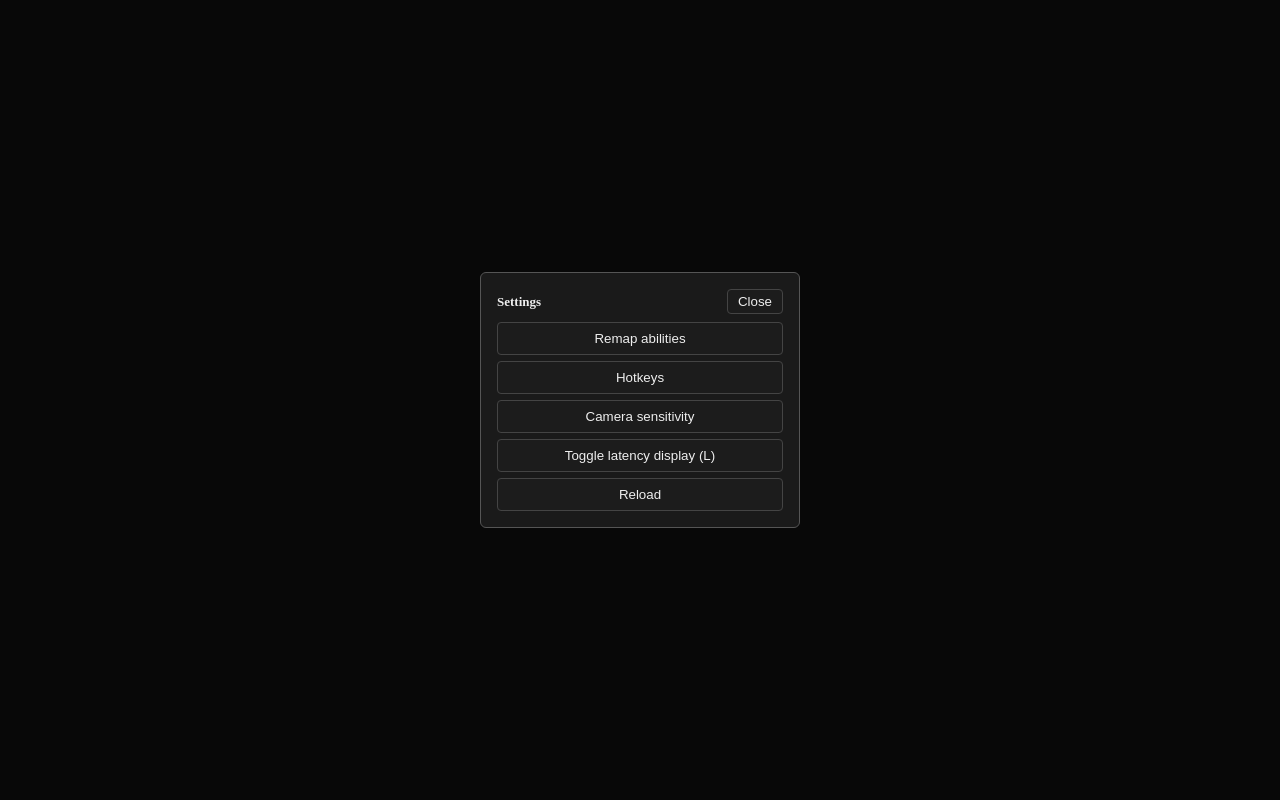
Test case: SettingsDialog hotkeys pane › captures the next keypress as the new binding
Step 1. Click the button "Hotkeys" → [640, 378], box [497, 361, 783, 394]
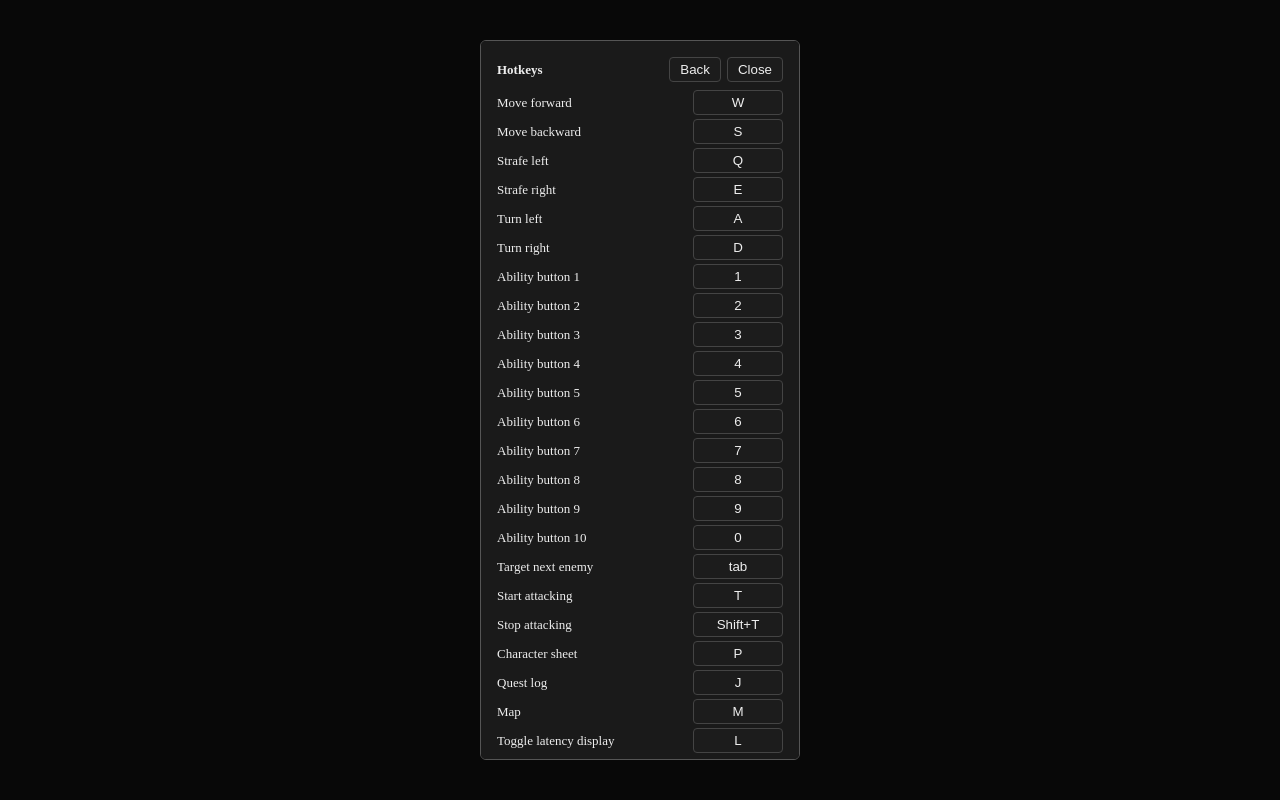
Step 2. Click the button named "Bind Move forward" → [738, 102], box [693, 90, 783, 115]
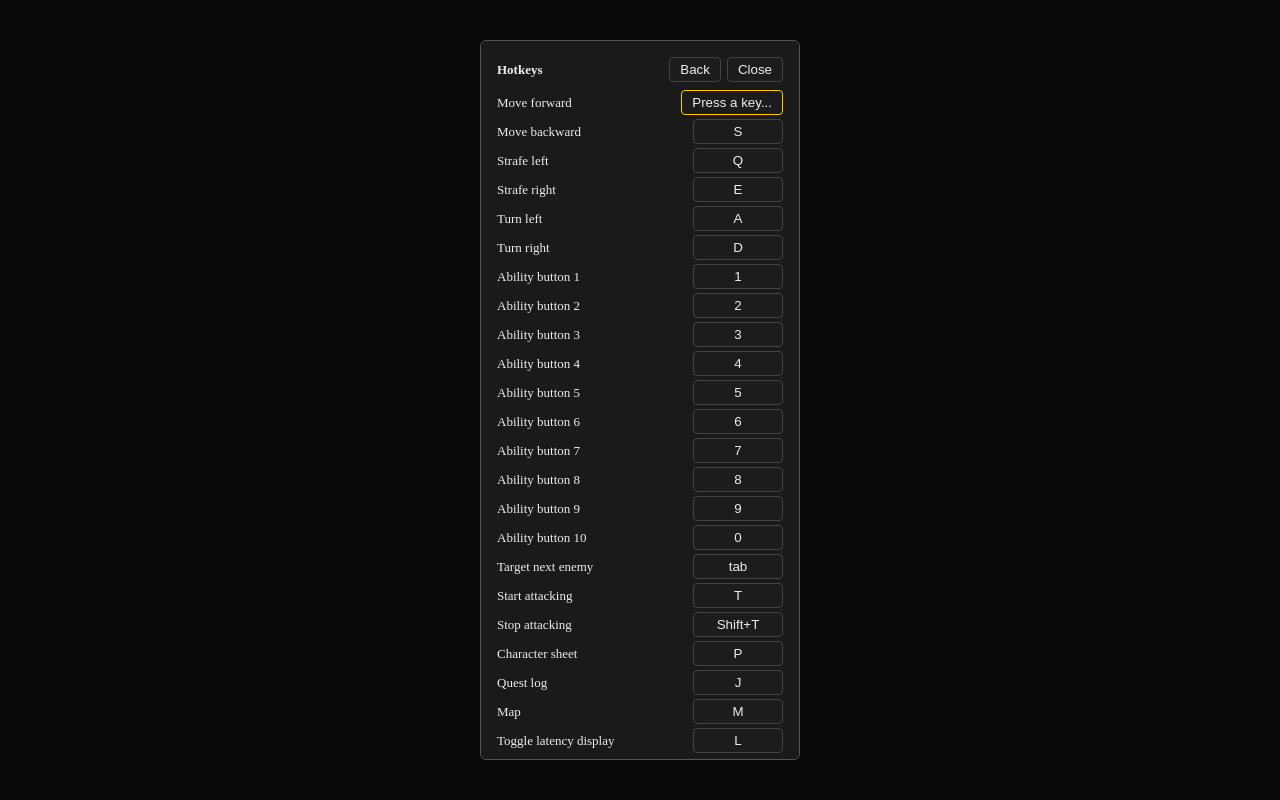
Result: the button with aria-label "Bind Move forward" reads "Press a key..." at [681, 90, 783, 115]
Step 3. Press ArrowUp
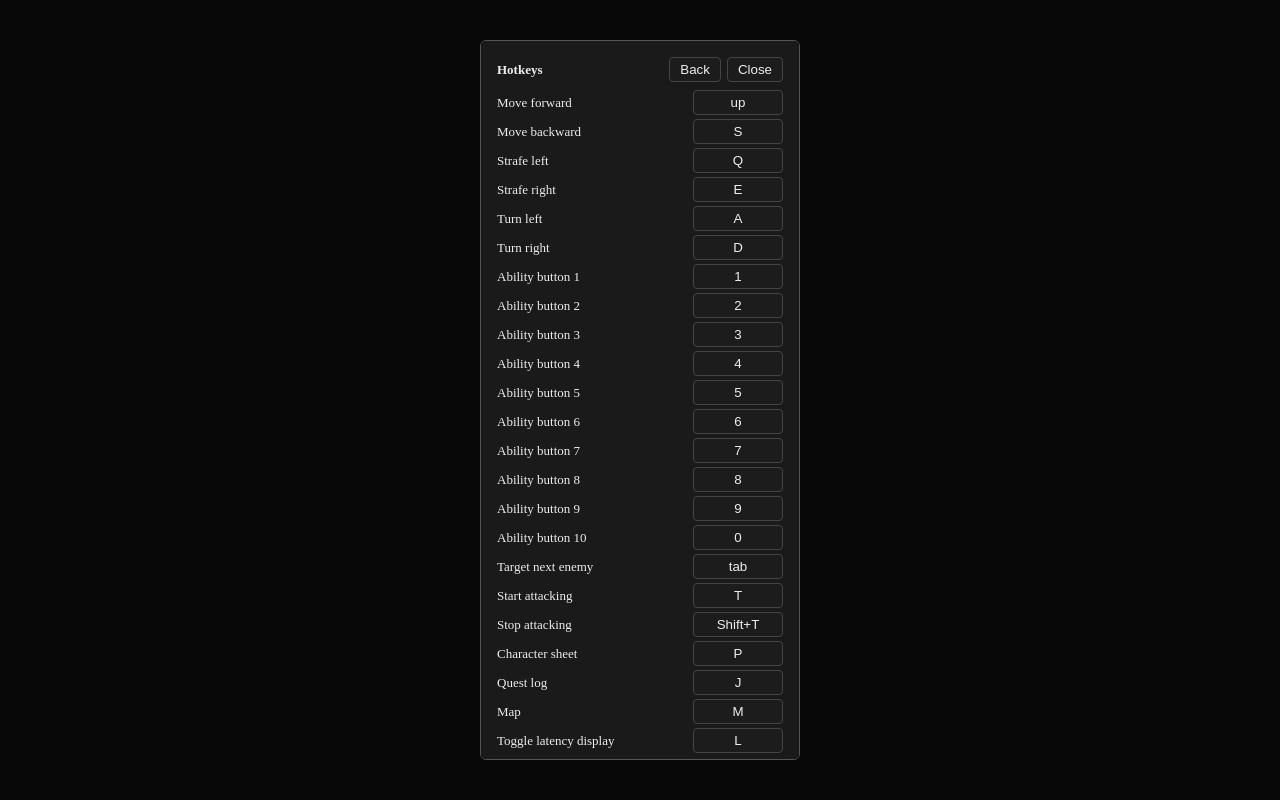
Result: the button with aria-label "Bind Move forward" reads "up" at [693, 90, 783, 115]
